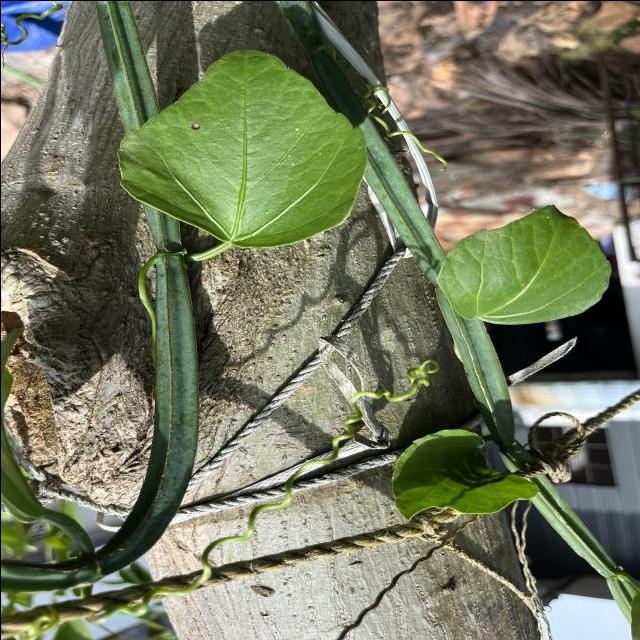Cissus quadrangularis: (115, 46, 371, 251), (432, 200, 614, 326)
